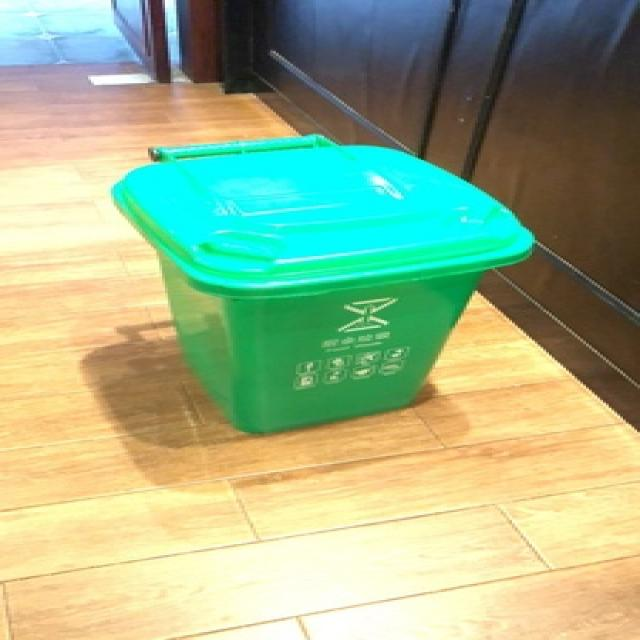ash bin: (114, 133, 543, 432)
